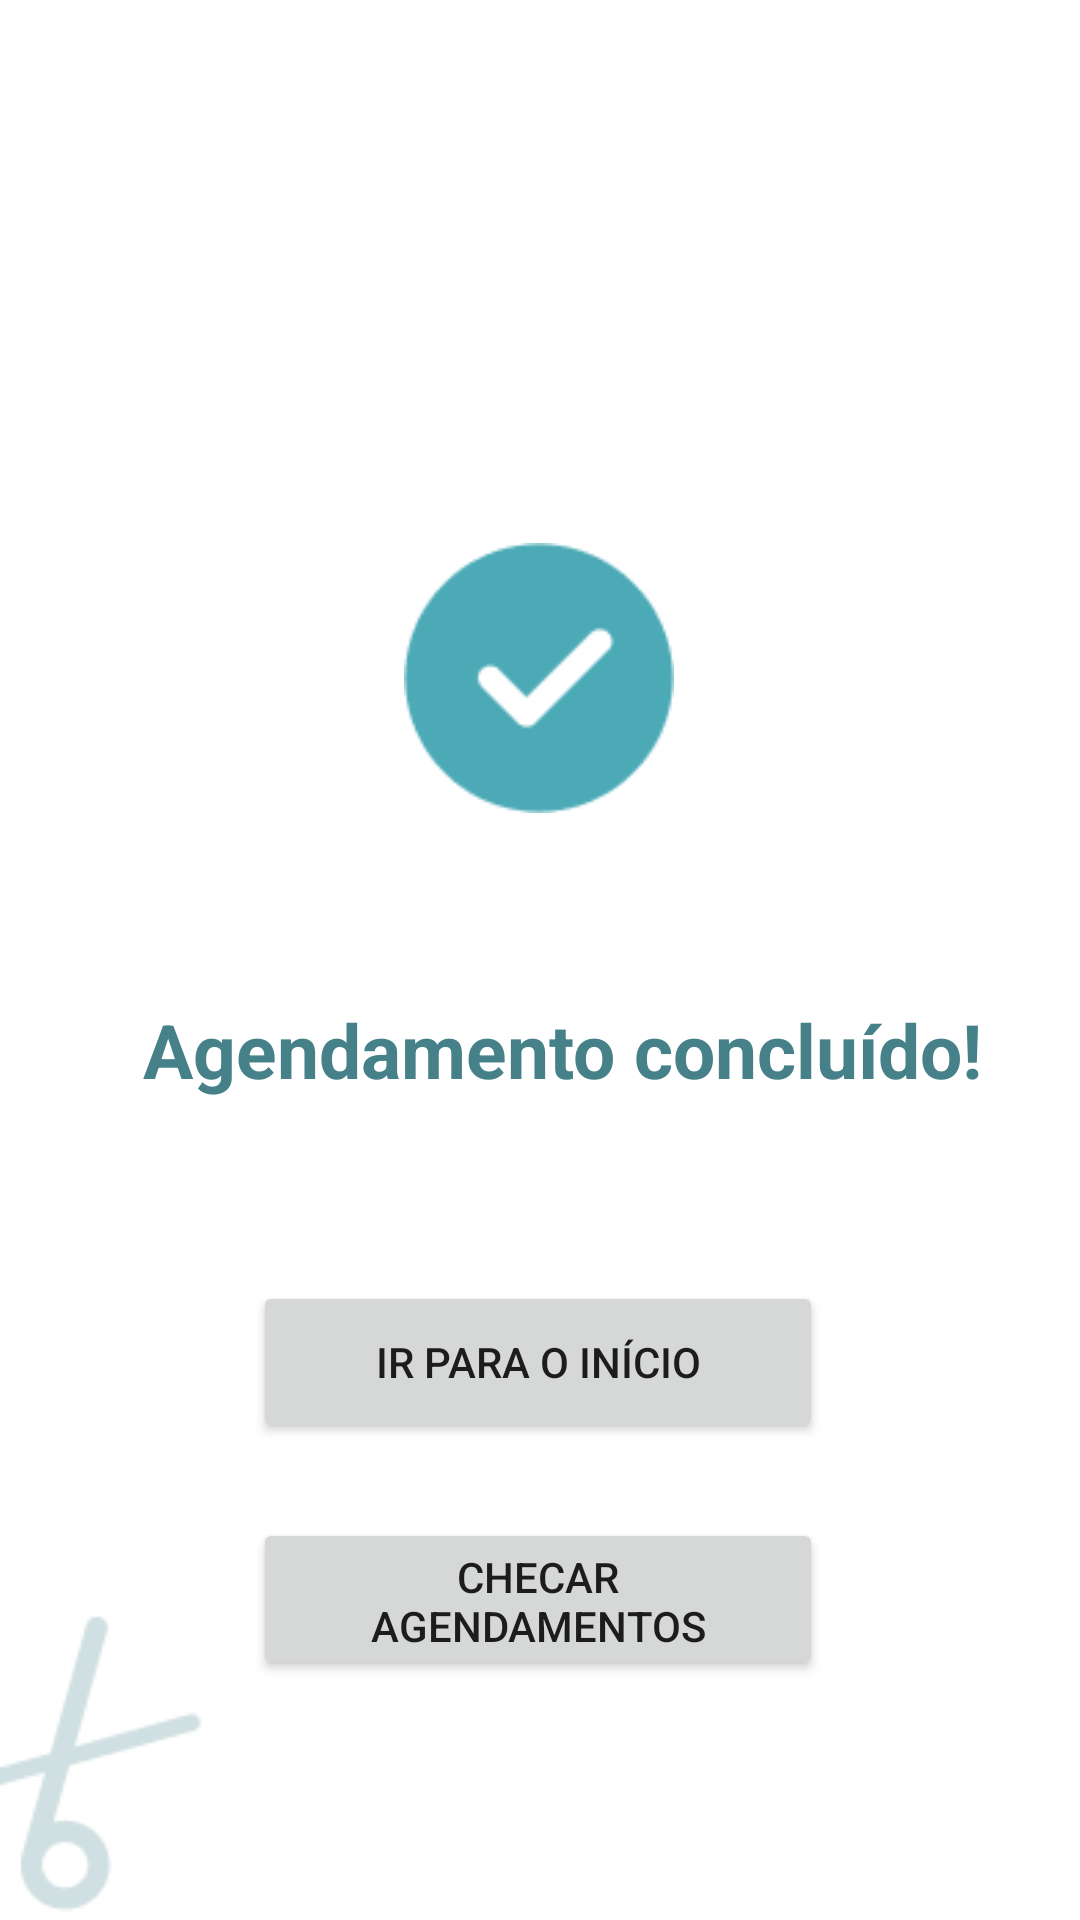

Named icons in this screenshot (1080x1920) and their bounding boxes, {"left": x1, "top": y1, "right": x2, "bottom": y2}:
tesoura lado: {"left": 0, "top": 1617, "right": 200, "bottom": 1909}
